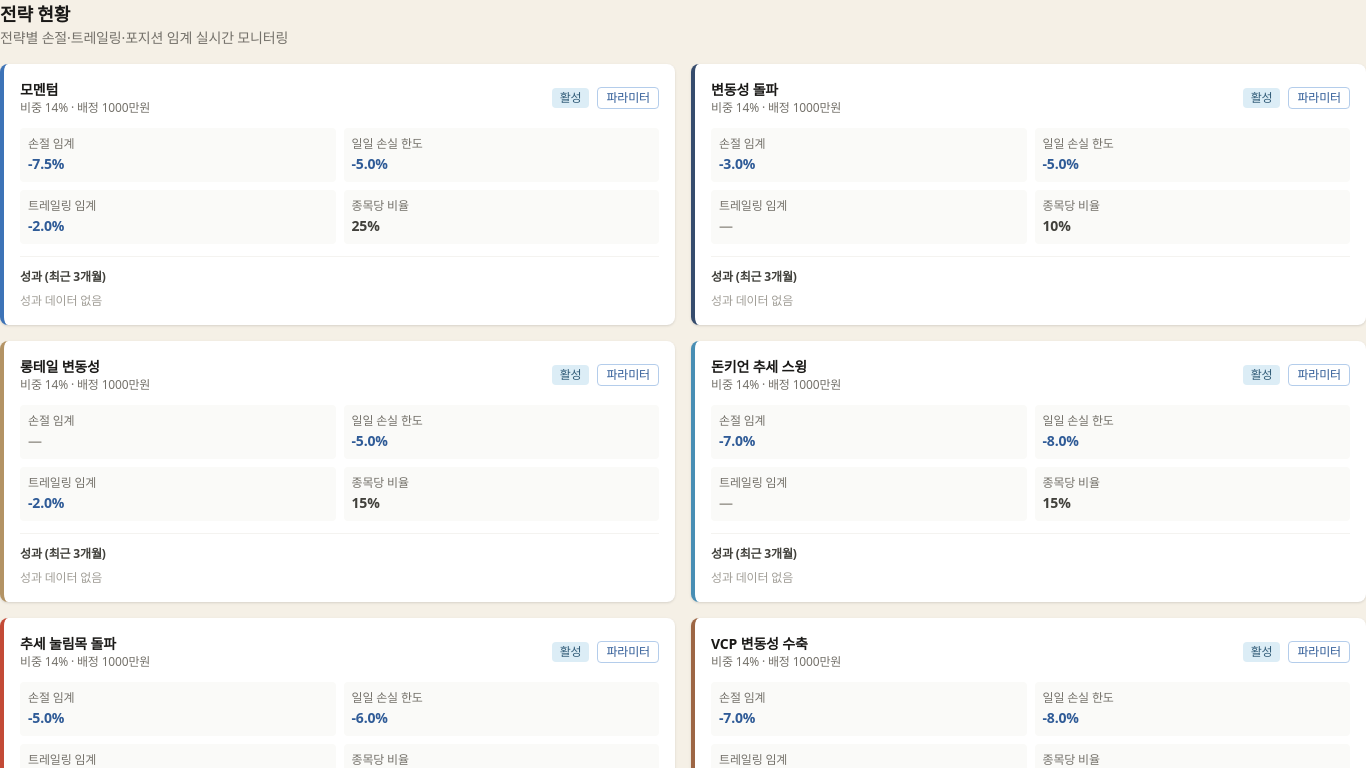
Test: cycle278 — 저장 성공 후 요약 값이 갱신된다 › 편집기에서 손절률을 고쳐 저장하면 카드 요약이 새 값으로 바뀐다
Expected: the element with test id "strategy-card-momentum" is shown, [0,64,675,325]
Expected: the text with test id "strategy-momentum-stop-loss-rate" reads "-7.5%", [28,154,64,173]
Step 1. Click the button with test id "strategy-params-open-momentum" → click(628, 98), box [598,87,659,109]
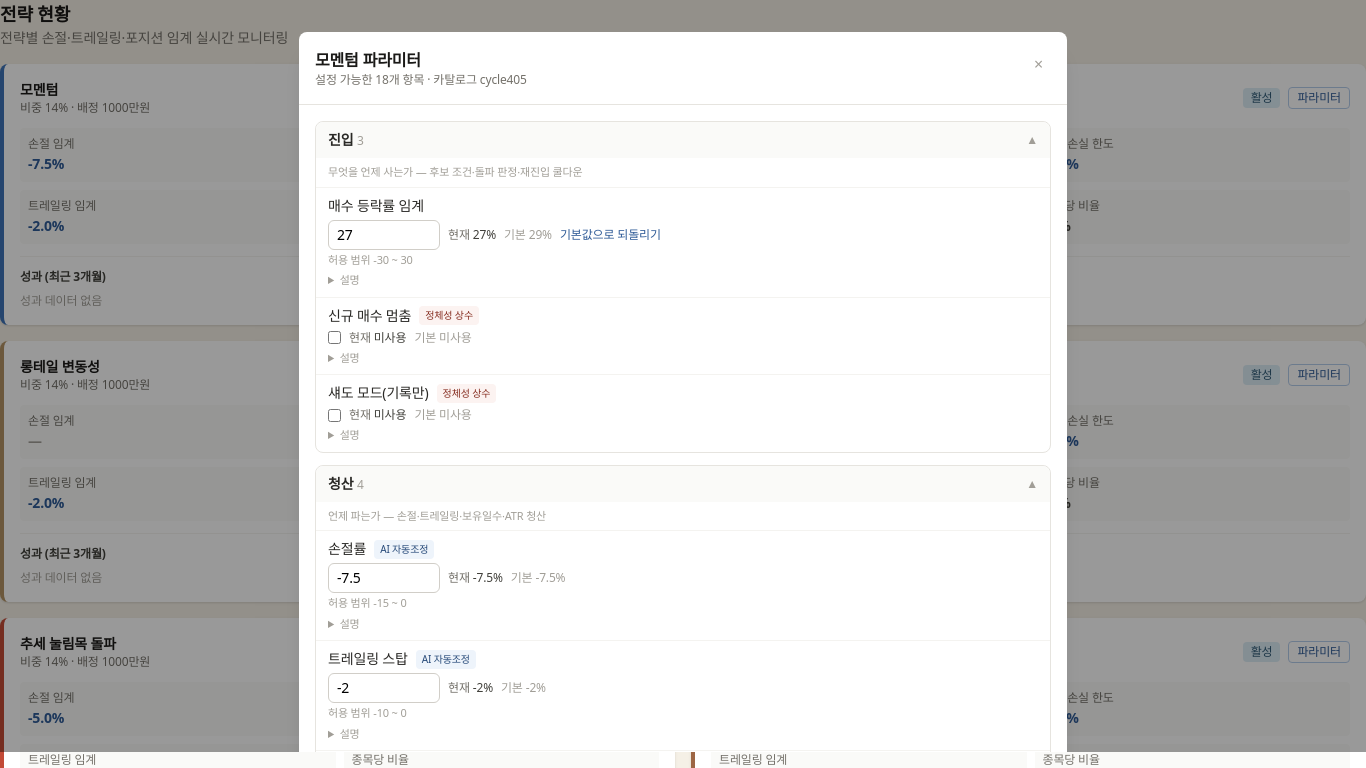
Step 2. Replace the text in the field with test id "strategy-params-input-stop-loss-rate" with "-8" → (384, 578), box [328,563,440,593]
(page scrolled)
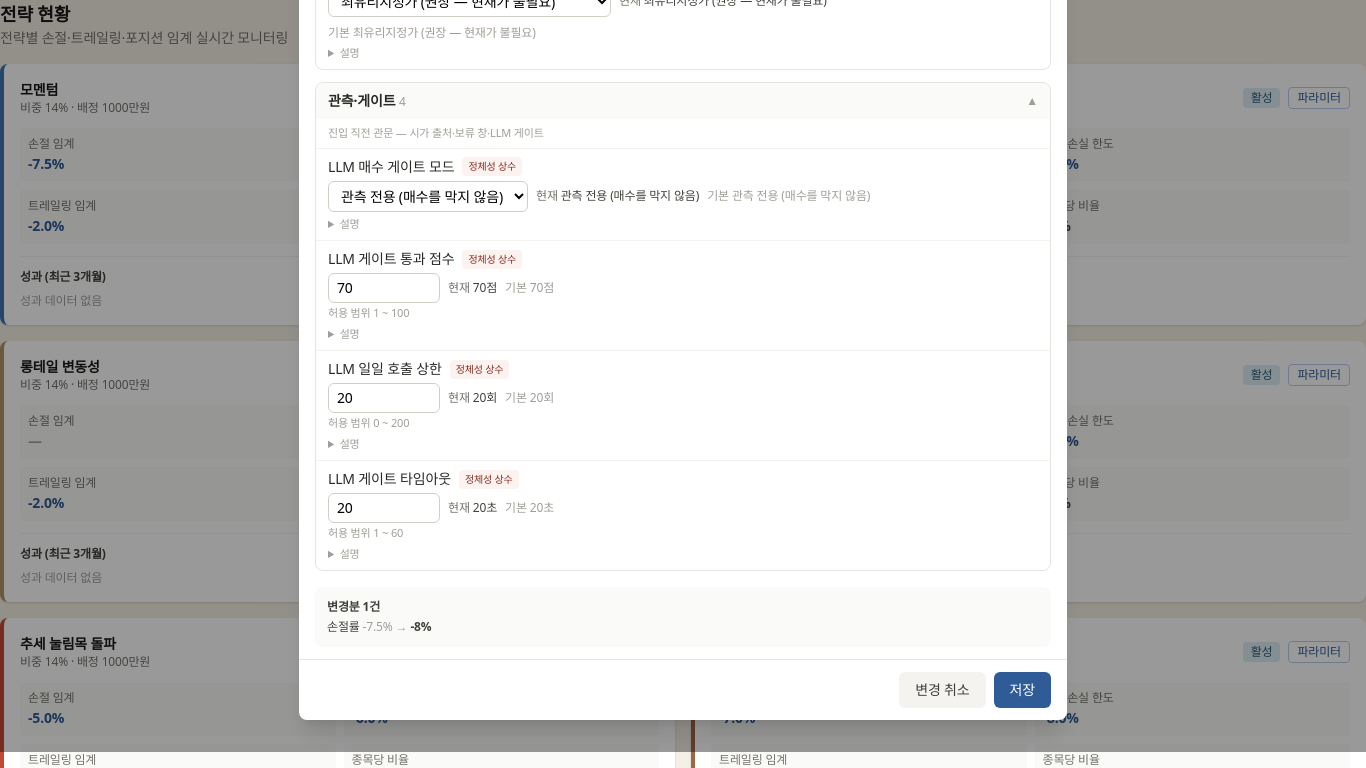
Step 3. Click the button with test id "strategy-params-save" → click(1022, 690), box [994,672,1051,708]
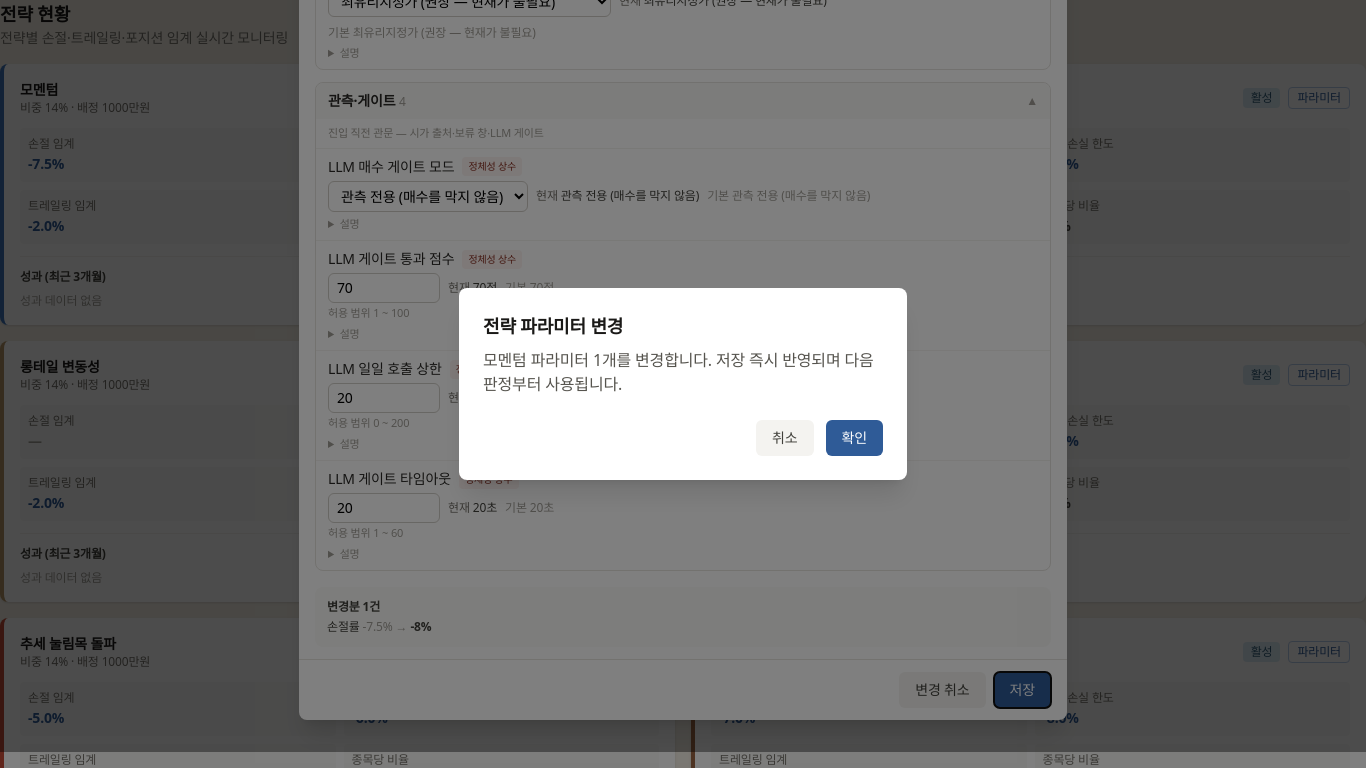
Step 4. Click the button "확인" → click(854, 438), box [826,420,883,456]
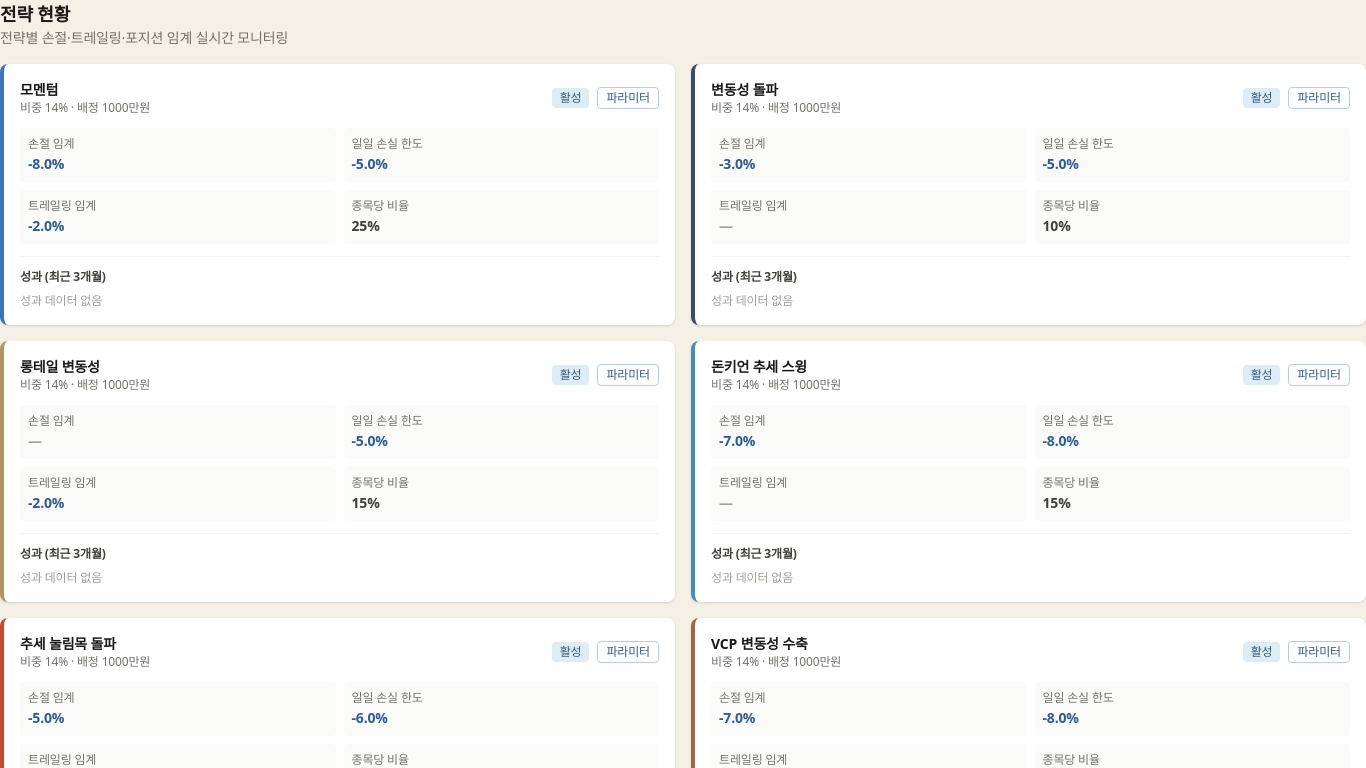
Expected: the text with test id "strategy-momentum-stop-loss-rate" reads "-8.0%", [28,154,64,173]
